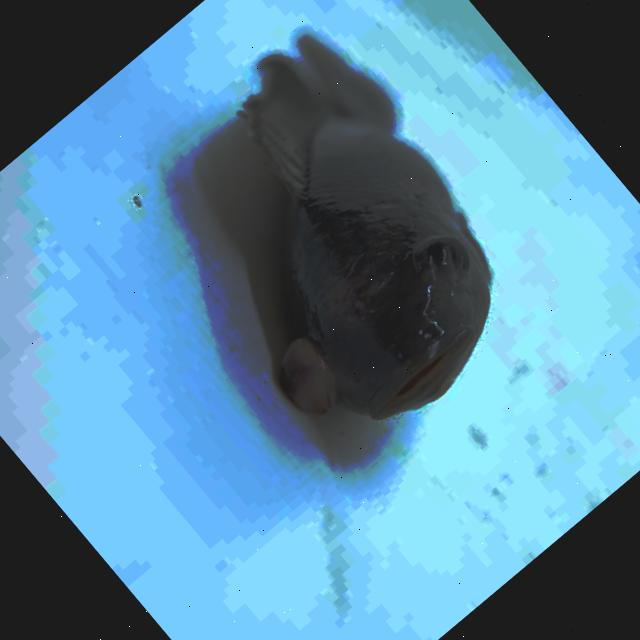Streptococcus: (241, 38, 488, 417)
